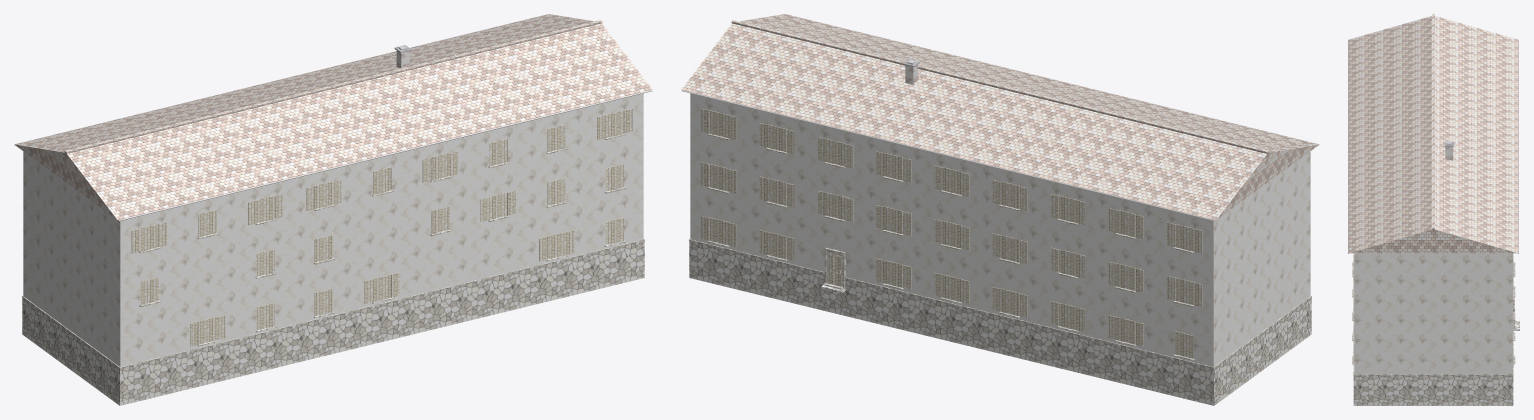
3 renders of one model, left to right at view 1: azimuth 30°, elevation 25°; view 2: azimuth 150°, elevation 25°; view 3: azimuth 270°, elevation 25°, orthographic. The views are drawn at different scales.
Visible parts, largest first — view 1: b1085384680; view 2: b1085384680; view 3: b1085384680.
Part boxes in pixels (bbox=[...]): b1085384680: bbox=[14, 14, 652, 405]; b1085384680: bbox=[681, 14, 1319, 405]; b1085384680: bbox=[1348, 14, 1519, 405].
Bounding box in the file's own units: 32.42 × 13.44 × 11.
19 materials, 19 textured.
